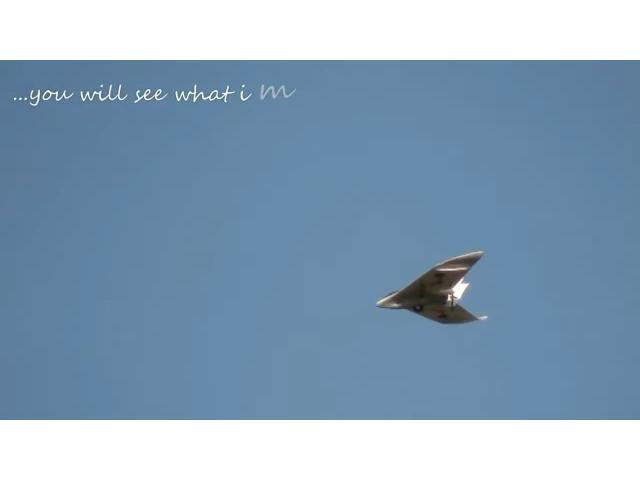Anti-Drone: (376, 253, 488, 323)
